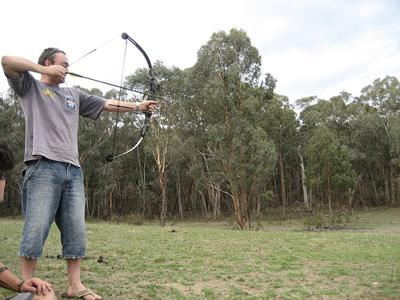person: (2, 47, 160, 300)
